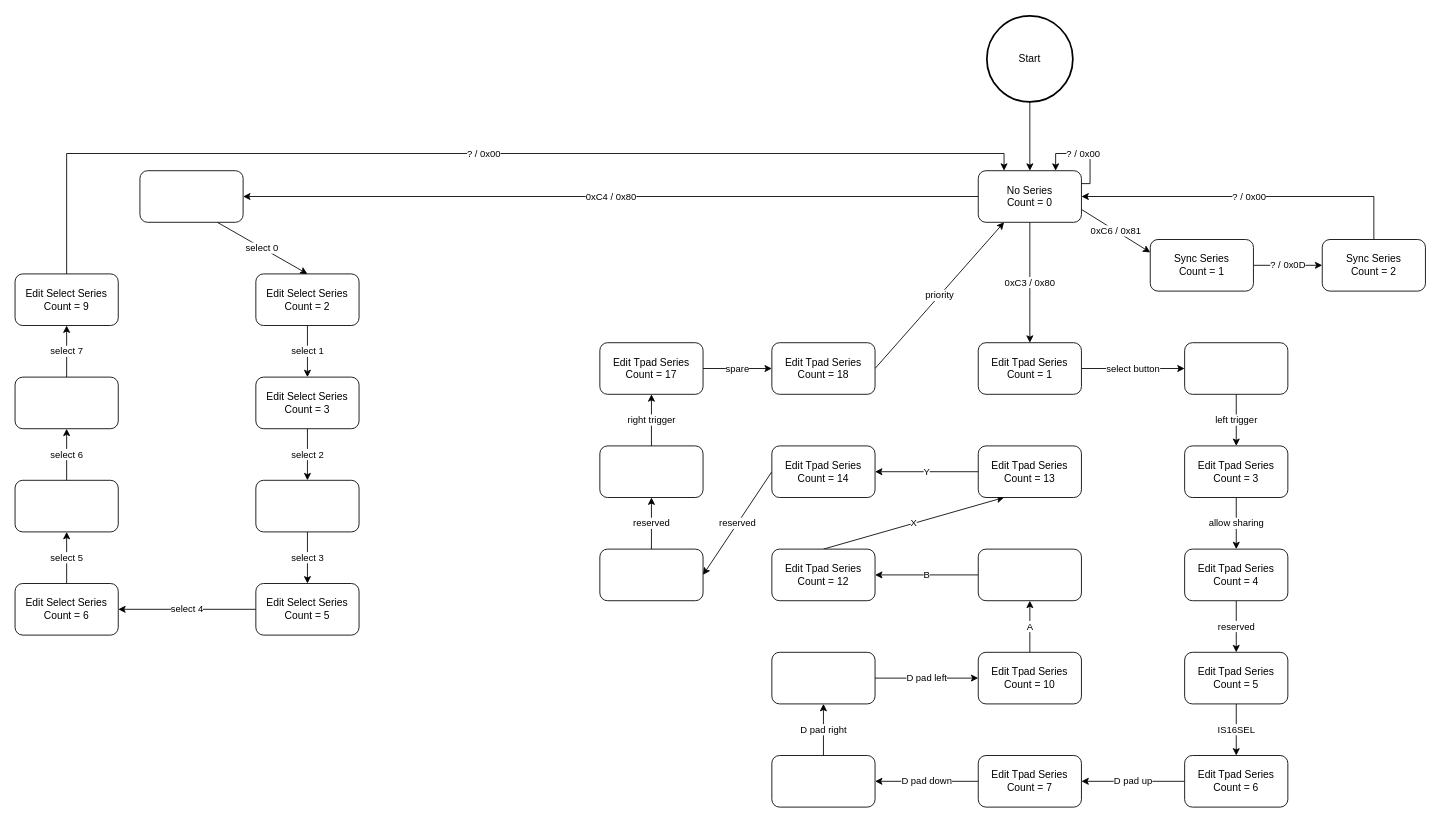
This 1441x822 diagram has some shape labels left out. The centre of each missing label's shape, as x and y in pixels:
"Edit Select Series Count = 1" goes at (x=191, y=196).
"Edit Select Series Count = 4" goes at (x=307, y=505).
"Edit Select Series Count = 7" goes at (x=66, y=505).
"Edit Select Series Count = 8" goes at (x=66, y=402).
"Edit Tpad Series Count = 11" goes at (x=1029, y=574).
"Edit Tpad Series Count = 15" goes at (x=651, y=574).
"Edit Tpad Series Count = 16" goes at (x=651, y=471).
"Edit Tpad Series Count = 2" goes at (x=1236, y=368).
"Edit Tpad Series Count = 8" goes at (x=823, y=781).
"Edit Tpad Series Count = 9" goes at (x=823, y=677).
